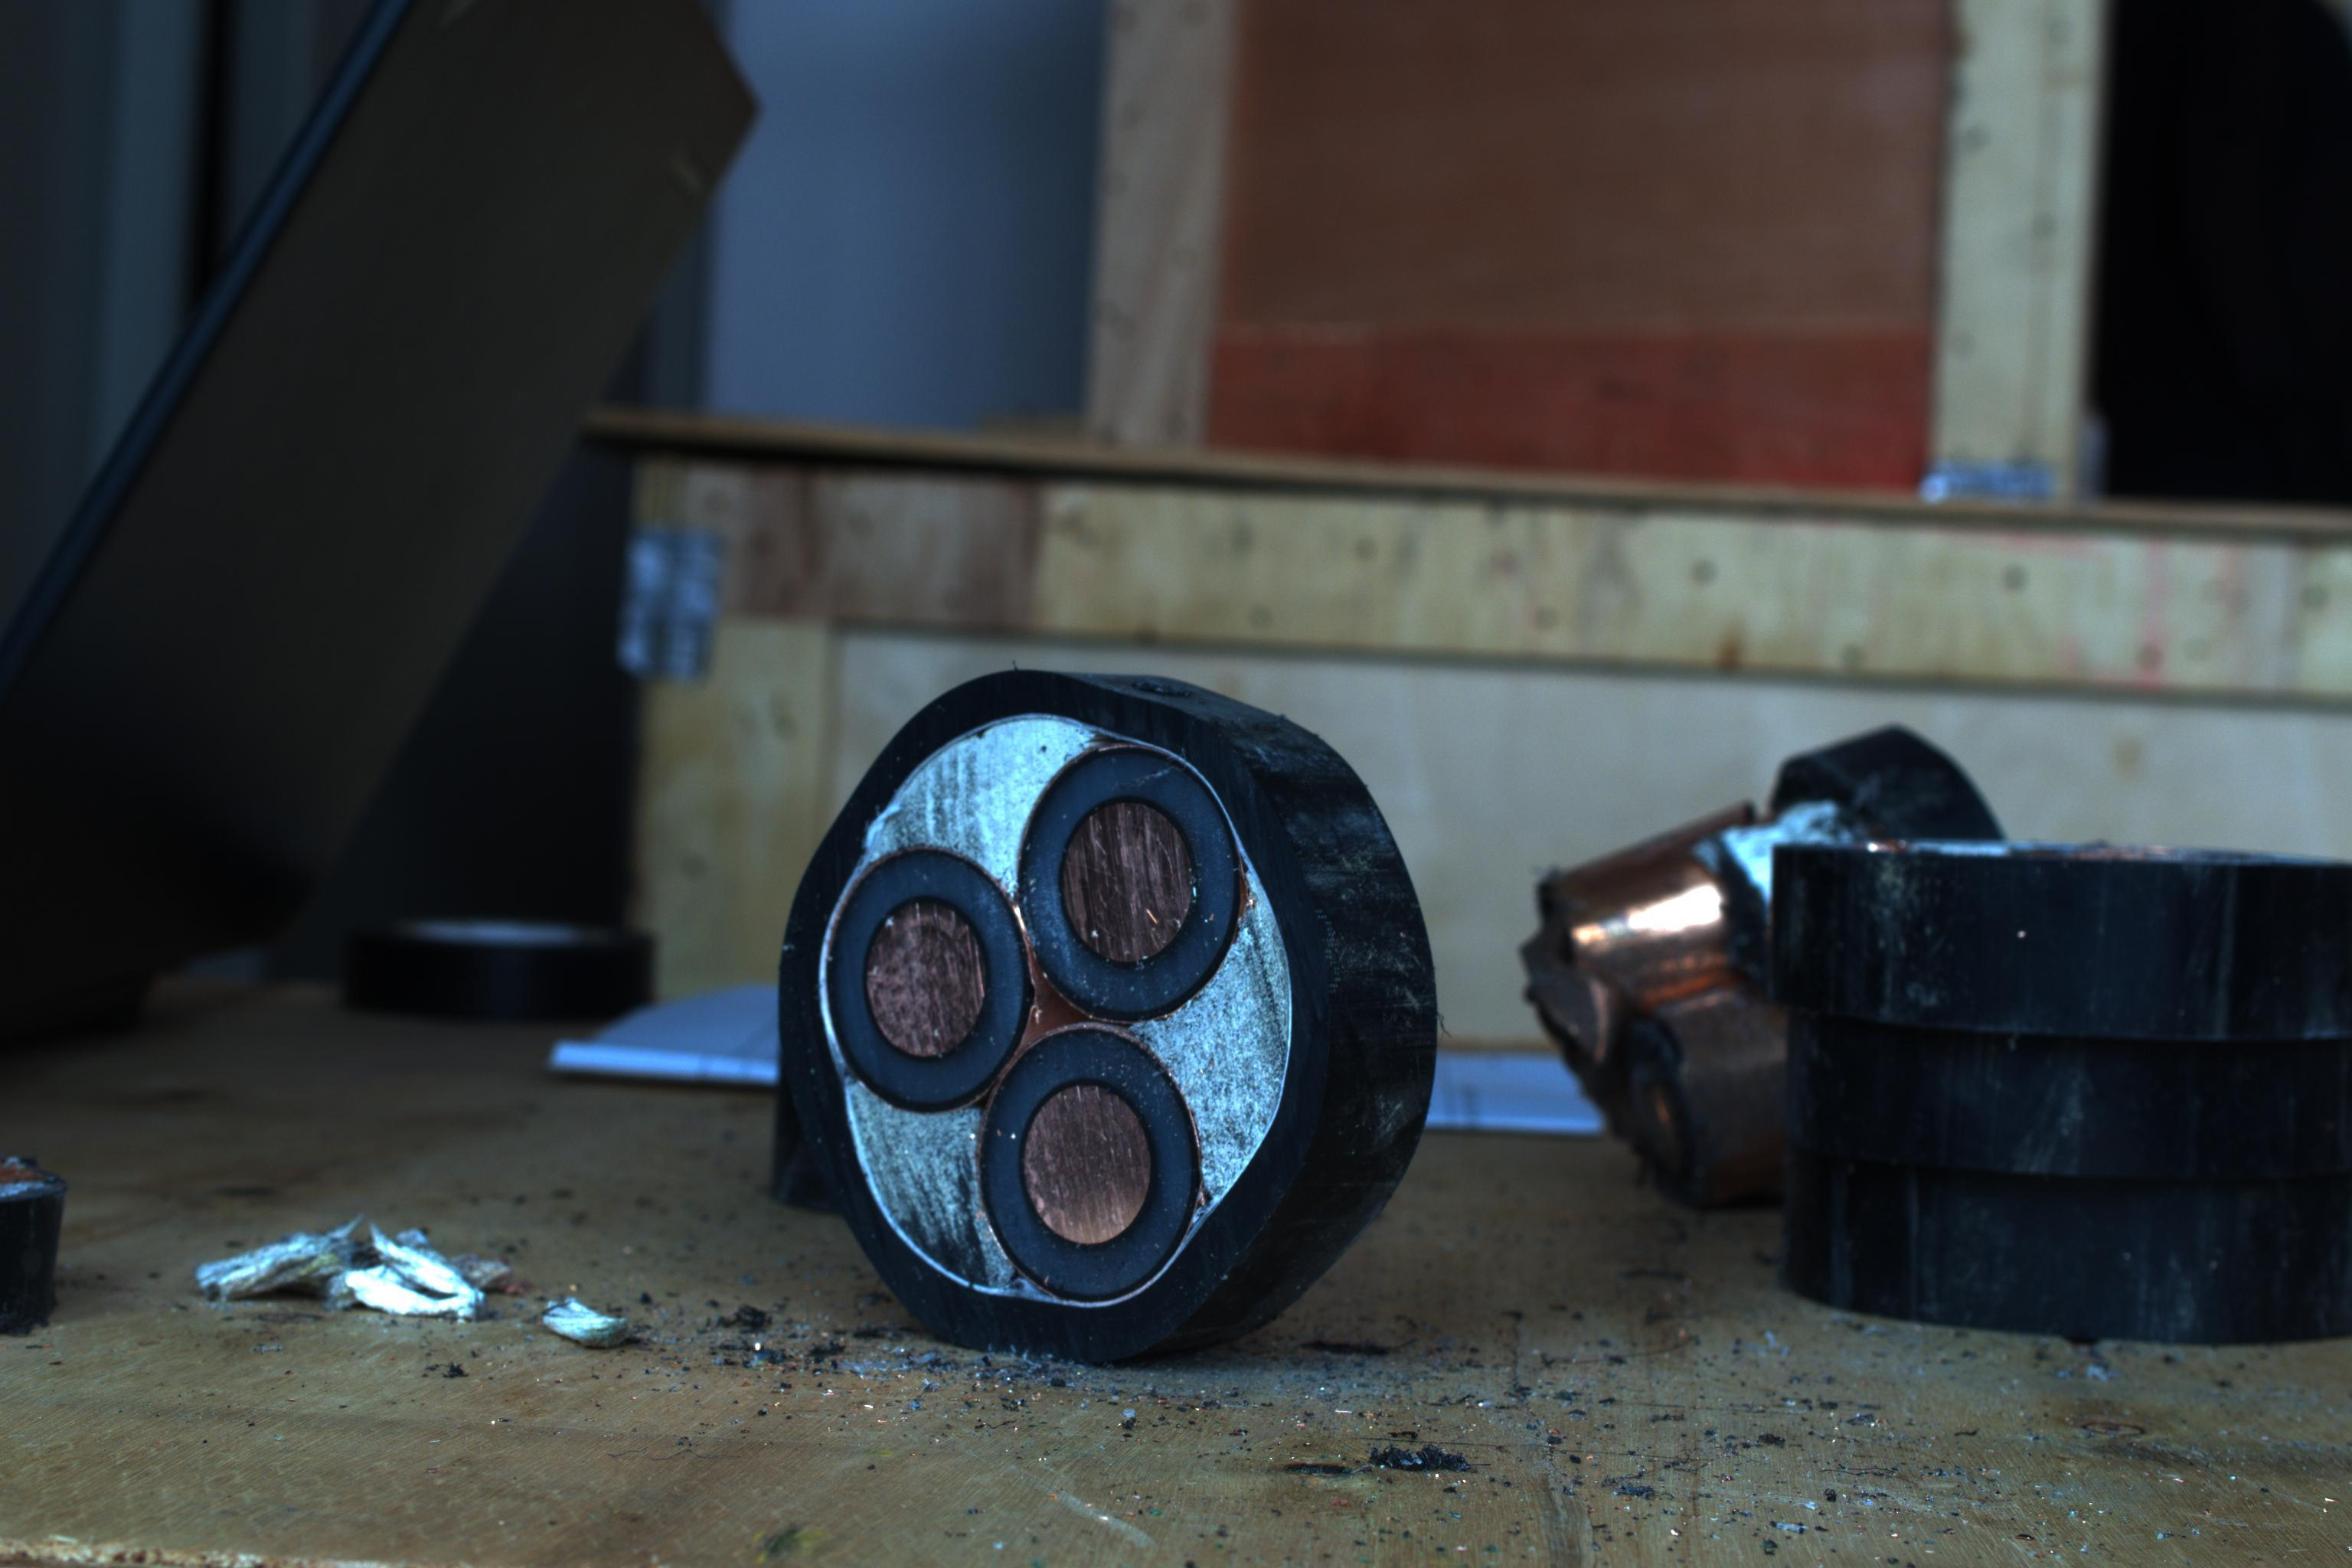ZA_YJV_8.7_10kV_3x240: (780, 679, 1361, 1361)
